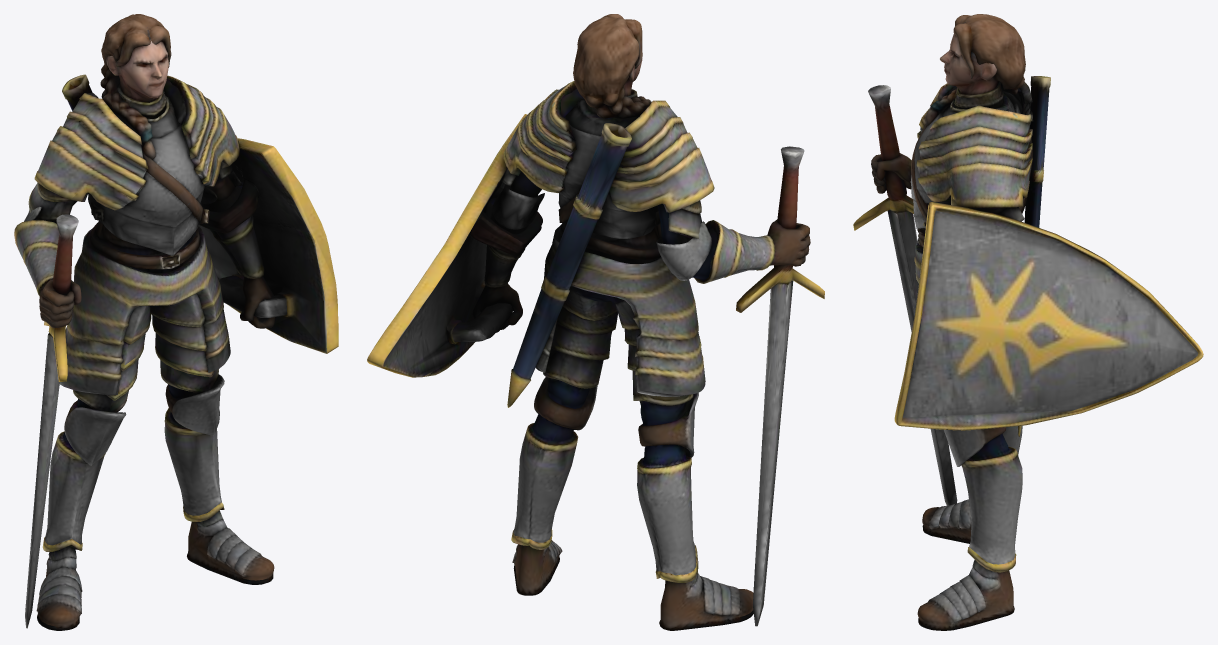
The model's file is MZ4250 - Human Female Paladin 4a.glb.
The picture shows the model from 3 angles, left to right: view 1: azimuth 30°, elevation 25°; view 2: azimuth 150°, elevation 25°; view 3: azimuth 270°, elevation 25°; orthographic projection. The views are drawn at different scales.
Visible parts, largest first — view 1: Human Female Paladin 4.001; view 2: Human Female Paladin 4.001; view 3: Human Female Paladin 4.001.
Part boxes in pixels (left/top/right/bottom): Human Female Paladin 4.001: left=14, top=14, right=338, bottom=630; Human Female Paladin 4.001: left=367, top=14, right=824, bottom=630; Human Female Paladin 4.001: left=853, top=14, right=1203, bottom=630.
Bounding box in the file's own units: 19.77 × 35.34 × 19.9.
Materials: 1 (1 with a texture image).
